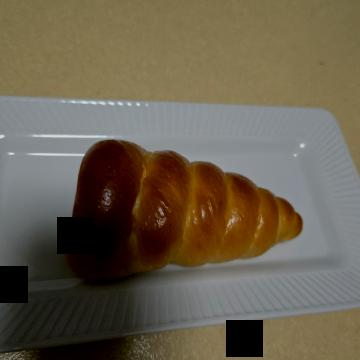cream horn: (132, 45, 322, 313)
